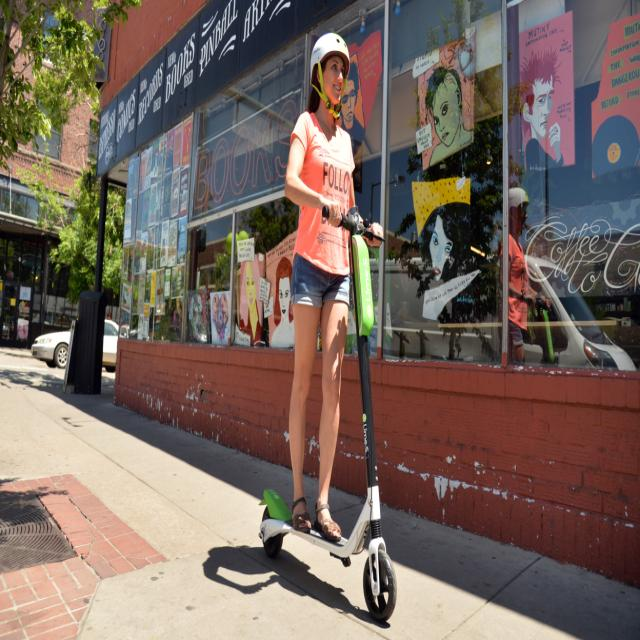helmet: (225, 14, 438, 629)
